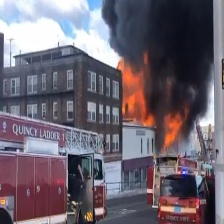fire: (116, 58, 194, 147)
smoke: (99, 1, 213, 115)
